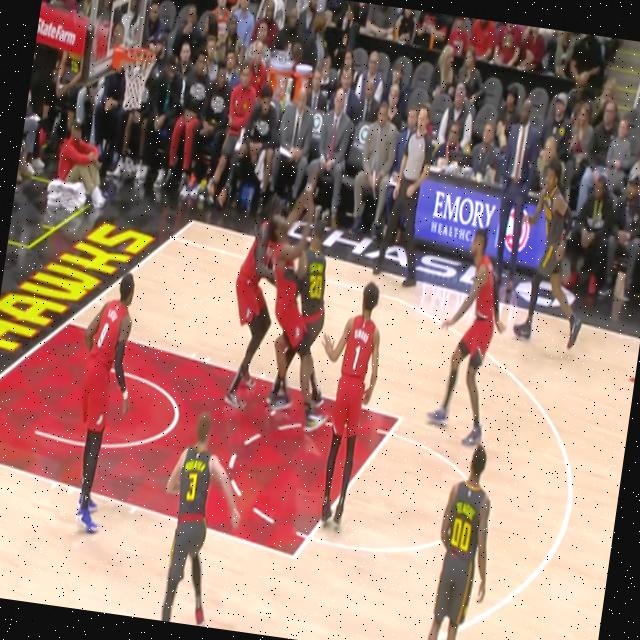Foul: (260, 213, 338, 372)
